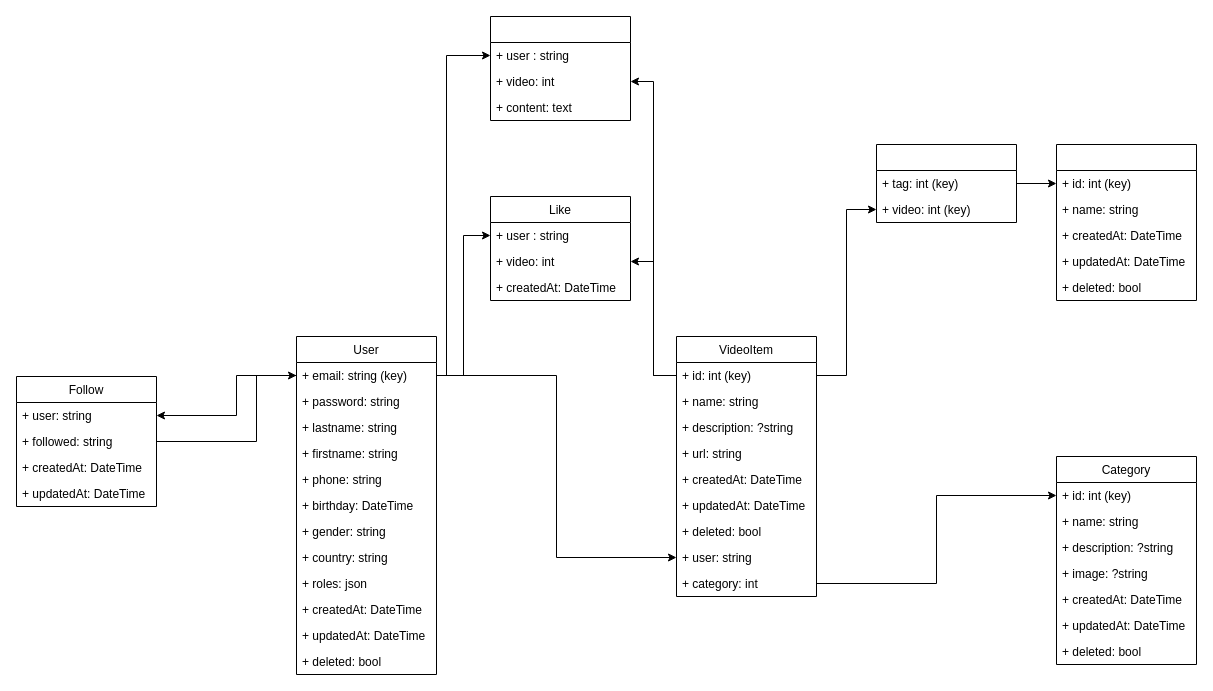
The diagram is 1213 pixels wide and 691 high, and some of its shapes have lost their labels. Here are the shapes that lost their labels. From the top down, the box of each, then its label:
(490, 16, 630, 120): Comment
(876, 144, 1016, 222): VideoTag
(1056, 144, 1196, 300): Tag
